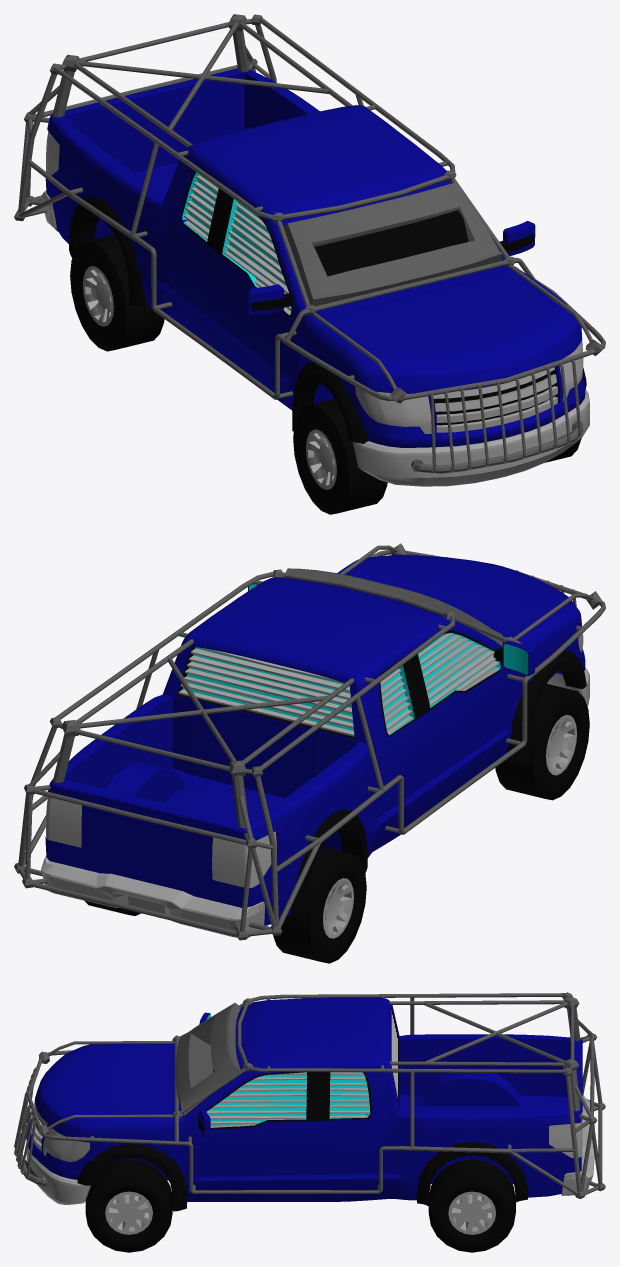
File: Truck Body.fbx
3 views of the same model, one above another, from view 1: azimuth 30°, elevation 25°; view 2: azimuth 150°, elevation 25°; view 3: azimuth 270°, elevation 25° (orthographic). The views are drawn at different scales.
Visible parts, largest first — view 1: Truck, Wheel1_Geo, Wheel2_Geo; view 2: Truck, Wheel1_Geo, Wheel2_Geo; view 3: Truck, Wheel4_Geo, Wheel3_Geo.
Boxes of the visible parts, left/top/right/bottom form: Truck: left=14, top=14, right=605, bottom=486; Wheel1_Geo: left=70, top=234, right=164, bottom=351; Wheel2_Geo: left=293, top=398, right=387, bottom=514; Truck: left=14, top=543, right=605, bottom=940; Wheel1_Geo: left=273, top=846, right=366, bottom=963; Wheel2_Geo: left=495, top=684, right=589, bottom=800; Truck: left=14, top=992, right=605, bottom=1211; Wheel4_Geo: left=428, top=1159, right=515, bottom=1252; Wheel3_Geo: left=85, top=1159, right=172, bottom=1252.
Size of what is drawn, in the model's own units: 2.22 by 1.77 by 5.18.
